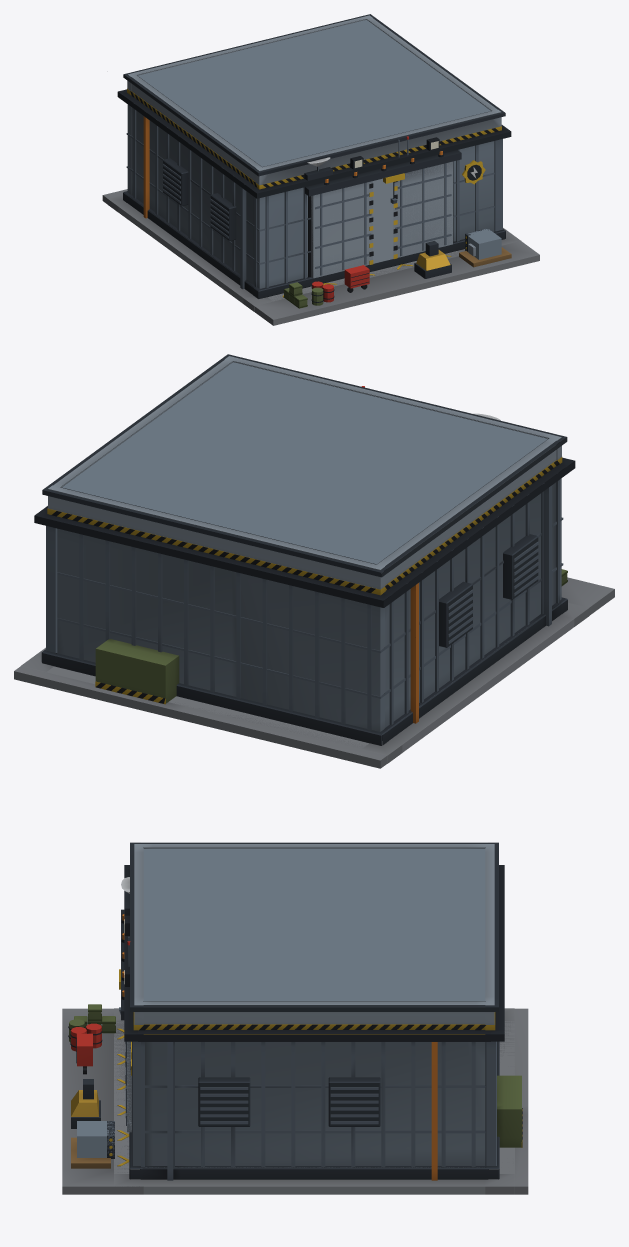
File: GoldenRatMechFloor.fbx
The picture shows the model from 3 angles, top to bottom: view 1: azimuth 30°, elevation 25°; view 2: azimuth 150°, elevation 25°; view 3: azimuth 270°, elevation 25°; orthographic projection. The views are drawn at different scales.
Visible parts, largest first — view 1: MH_S_All, MH_F_Rings, MH_F_Smooth, MH_F_Quiet, MH_F_Props; view 2: MH_F_Rings, MH_S_All, MH_F_Smooth, MH_F_Quiet; view 3: MH_S_All, MH_F_Rings, MH_F_Smooth, MH_F_Quiet, MH_F_Props.
Boxes of the visible parts, left/top/right/bottom form: MH_S_All: left=108, top=20, right=501, bottom=311; MH_F_Rings: left=118, top=15, right=510, bottom=288; MH_F_Smooth: left=102, top=74, right=539, bottom=325; MH_F_Quiet: left=103, top=14, right=539, bottom=319; MH_F_Props: left=284, top=137, right=511, bottom=308; MH_F_Rings: left=35, top=356, right=574, bottom=731; MH_S_All: left=21, top=362, right=588, bottom=763; MH_F_Smooth: left=14, top=354, right=614, bottom=768; MH_F_Quiet: left=14, top=354, right=614, bottom=760; MH_S_All: left=77, top=848, right=514, bottom=1194; MH_F_Rings: left=124, top=844, right=521, bottom=1167; MH_F_Smooth: left=62, top=842, right=528, bottom=1194; MH_F_Quiet: left=62, top=842, right=528, bottom=1186; MH_F_Props: left=69, top=877, right=129, bottom=1168.
Size of the model in its own units: 60 by 20 by 60.
